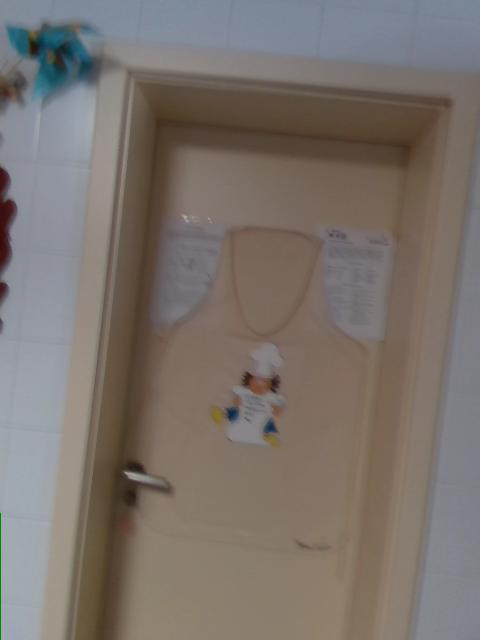door: (106, 120, 411, 639)
